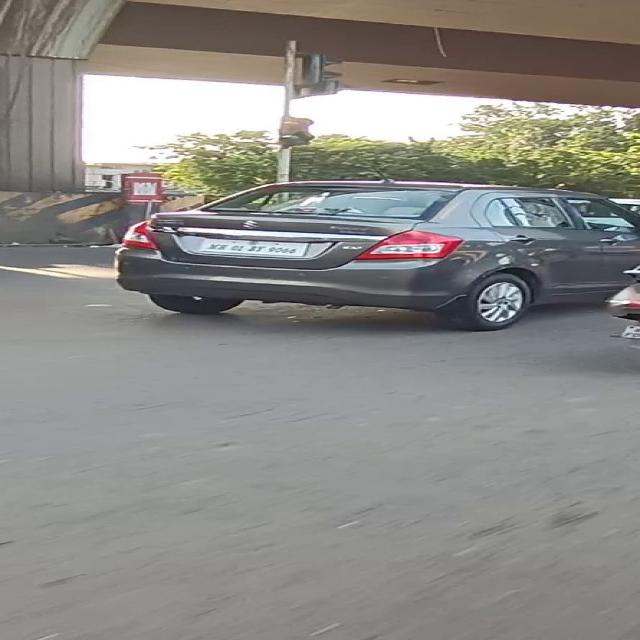plate: (196, 237, 309, 257)
